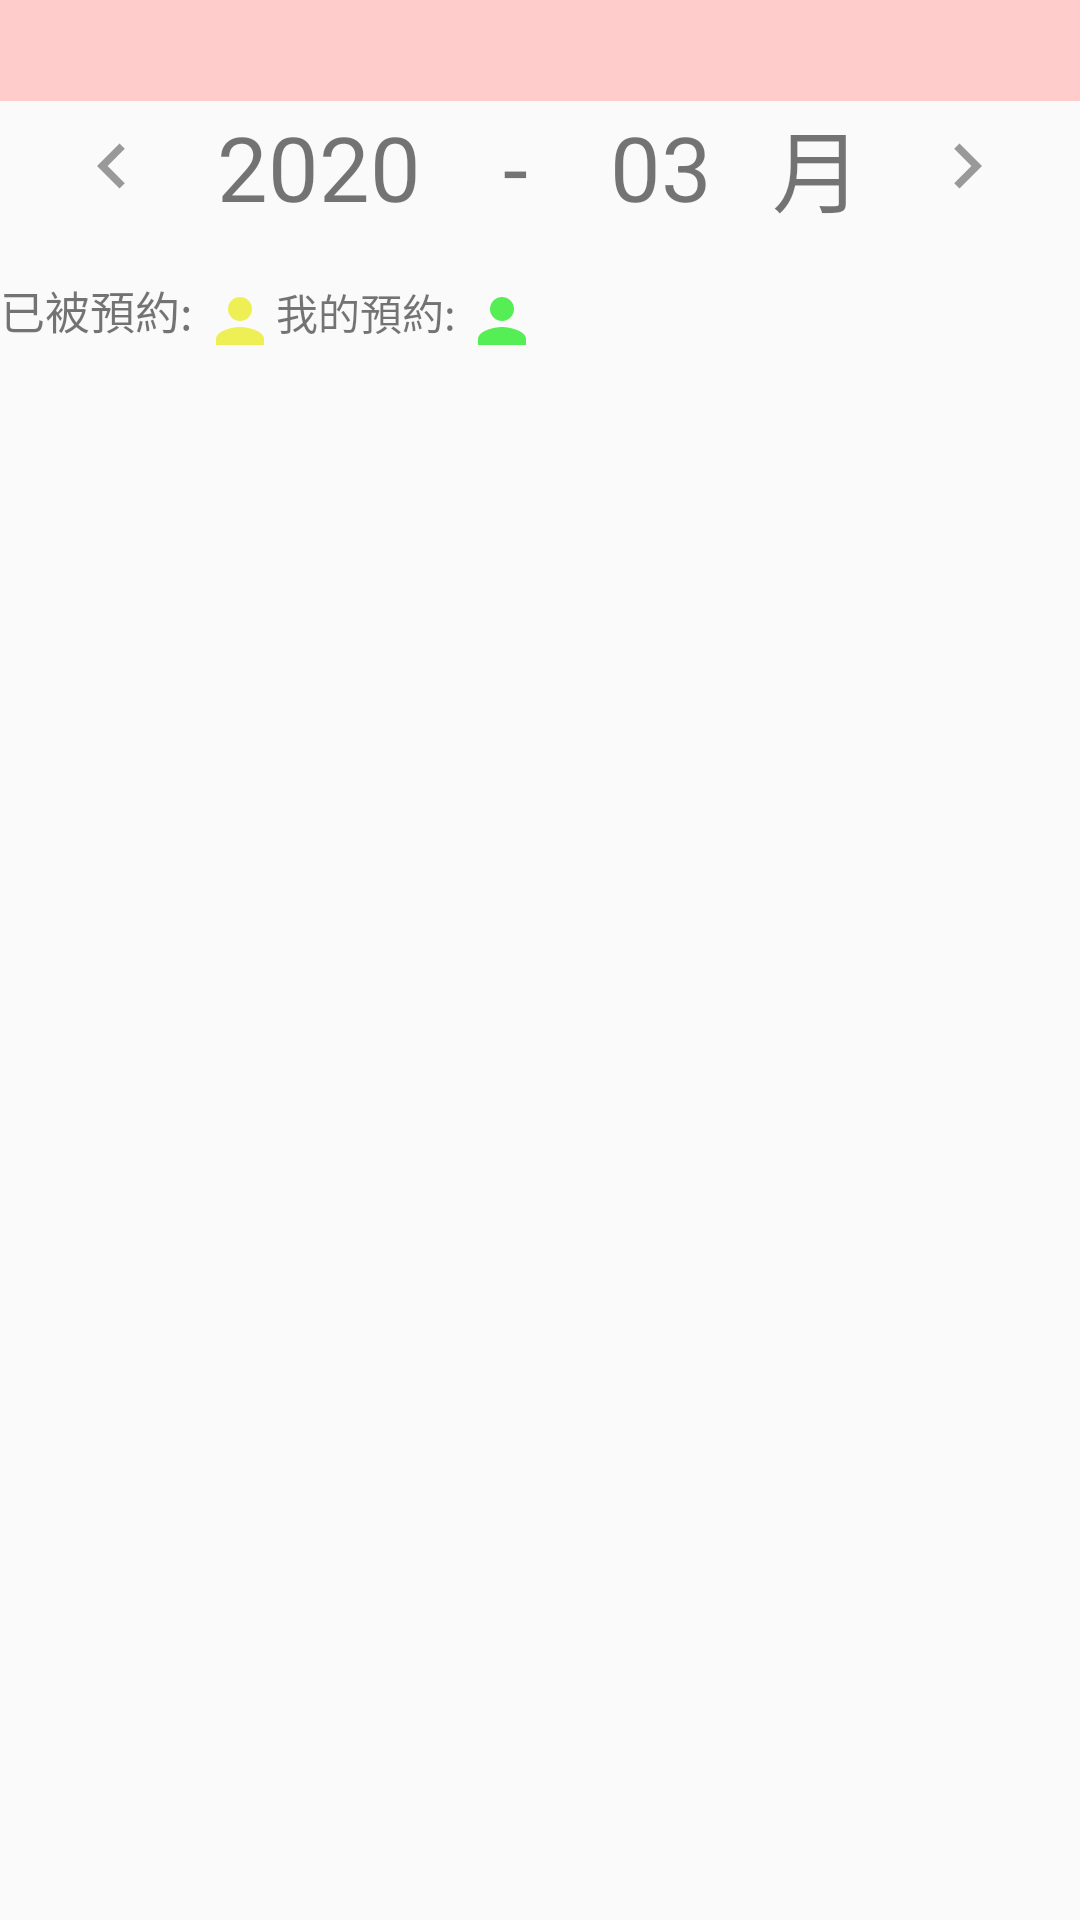

Where to tap for icons on this 1080×1920 app screen, as [x,y]:
chevron left: [111,165]
chevron right: [968,166]
